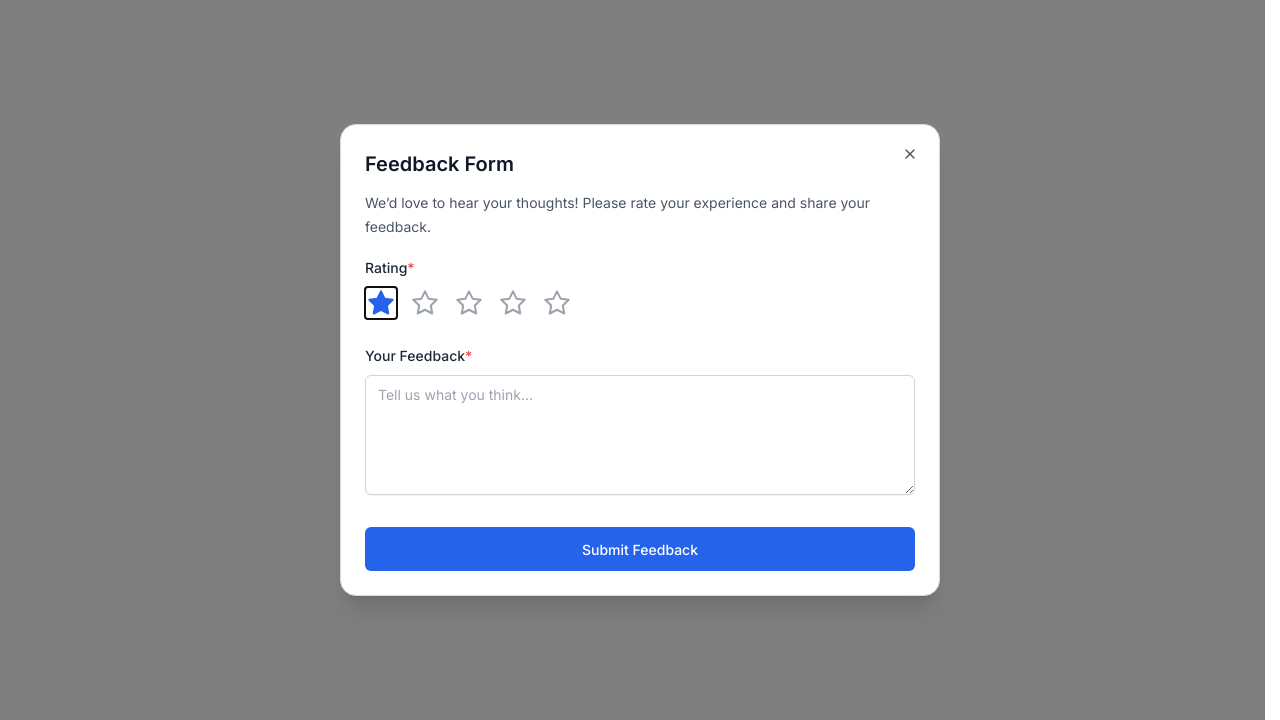
FeedbackDialog › shows validation errors on empty submit
Step 1. Click the button "Submit Feedback" → (640, 549), box [365,527,915,571]
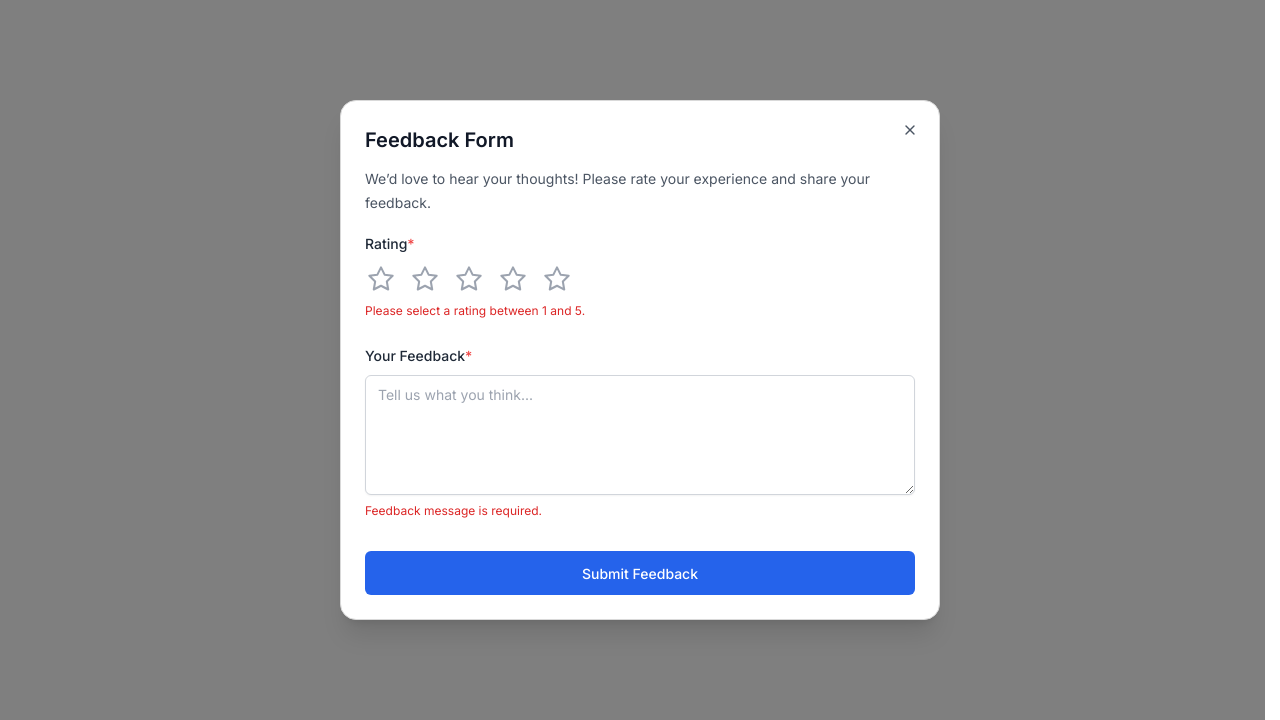
Check: the text "Please select a rating between 1 and 5." is shown, box [365,303,585,318]
Check: the text "Feedback message is required." is shown, box [365,503,542,518]
